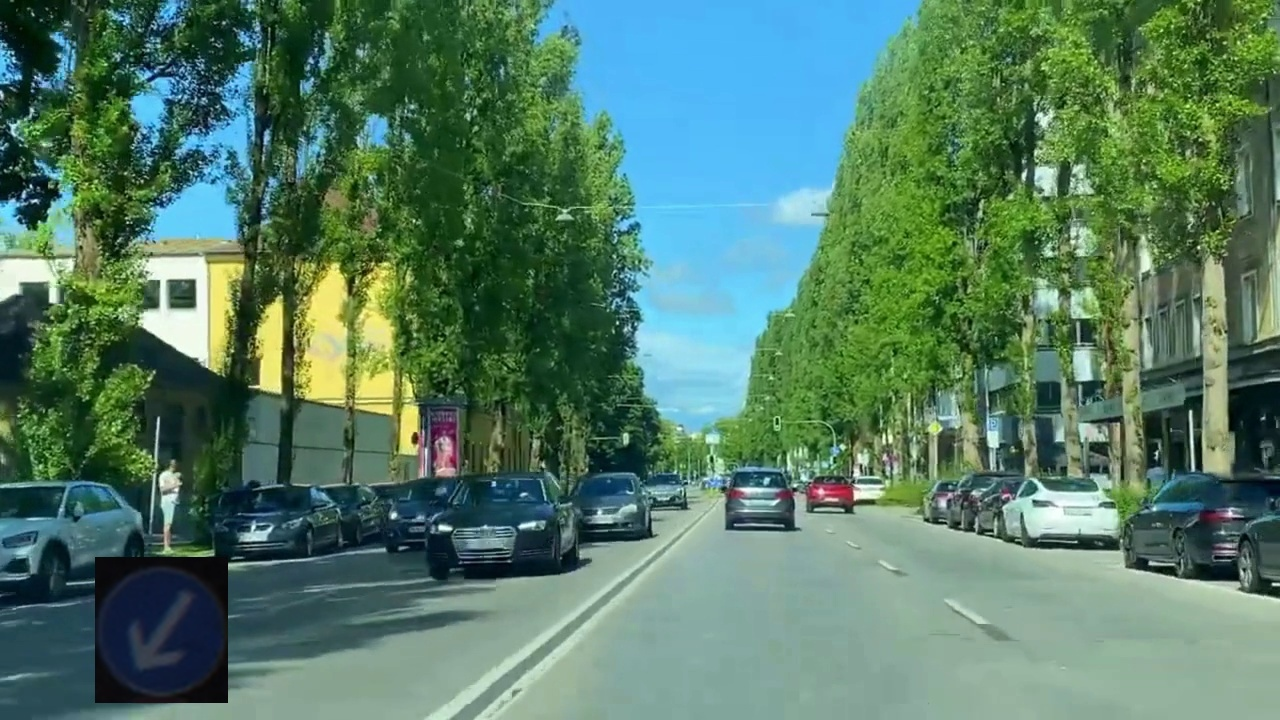Keep left: (95, 557, 228, 703)
